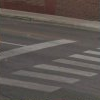crosswalk: (0, 44, 100, 94)
